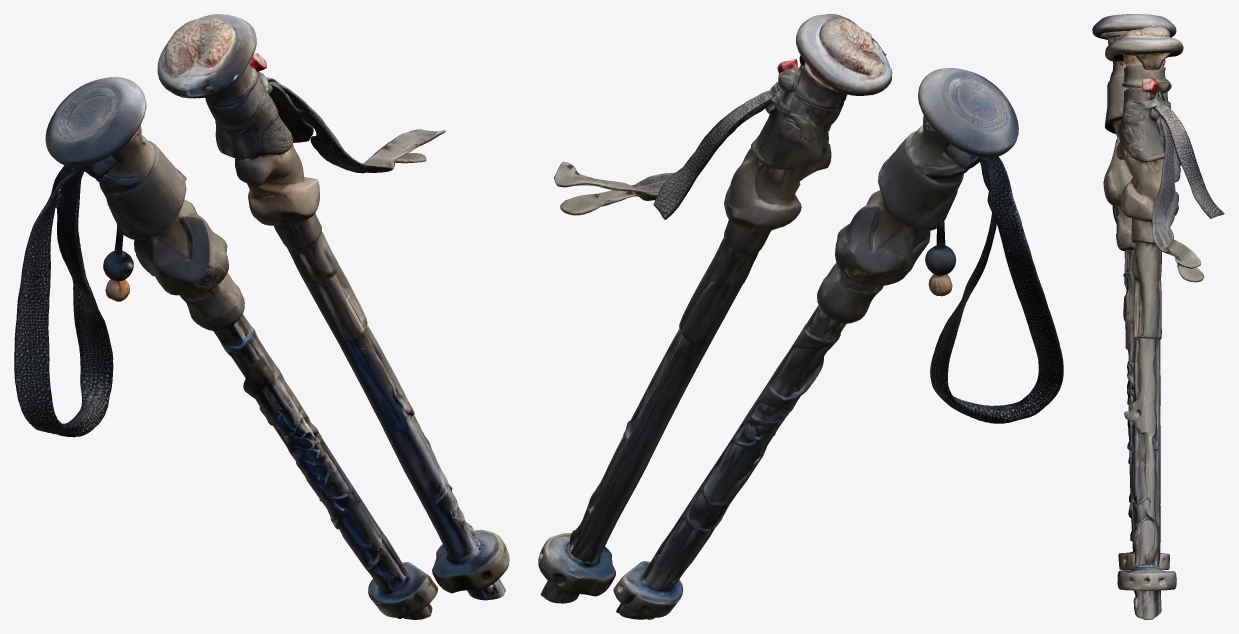
File: trekking-poles.glb
3 views of the same model, side by side, from view 1: azimuth 30°, elevation 25°; view 2: azimuth 150°, elevation 25°; view 3: azimuth 270°, elevation 25° (orthographic). The views are drawn at different scales.
Parts seen in each view (by area): view 1: node_f64356b6-9a49-4a74-98f1-3e7186c42dc4; view 2: node_f64356b6-9a49-4a74-98f1-3e7186c42dc4; view 3: node_f64356b6-9a49-4a74-98f1-3e7186c42dc4.
Boxes of the visible parts, x1=… form: node_f64356b6-9a49-4a74-98f1-3e7186c42dc4: x1=14, y1=14, x2=509, y2=619; node_f64356b6-9a49-4a74-98f1-3e7186c42dc4: x1=538, y1=14, x2=1063, y2=619; node_f64356b6-9a49-4a74-98f1-3e7186c42dc4: x1=1092, y1=14, x2=1224, y2=619.
Size of the model in its own units: 0.8052 by 0.9785 by 0.2415.
Materials: 1 (1 with a texture image).
